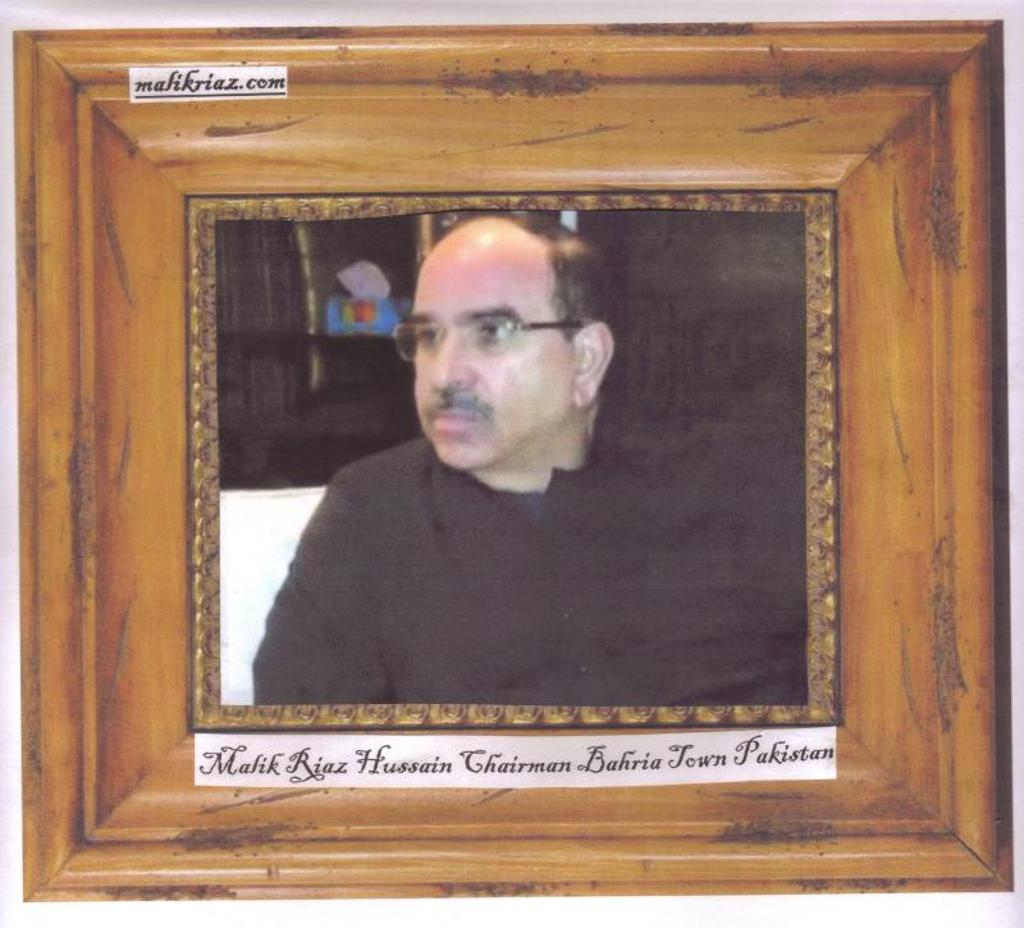face: (414, 236, 576, 462)
